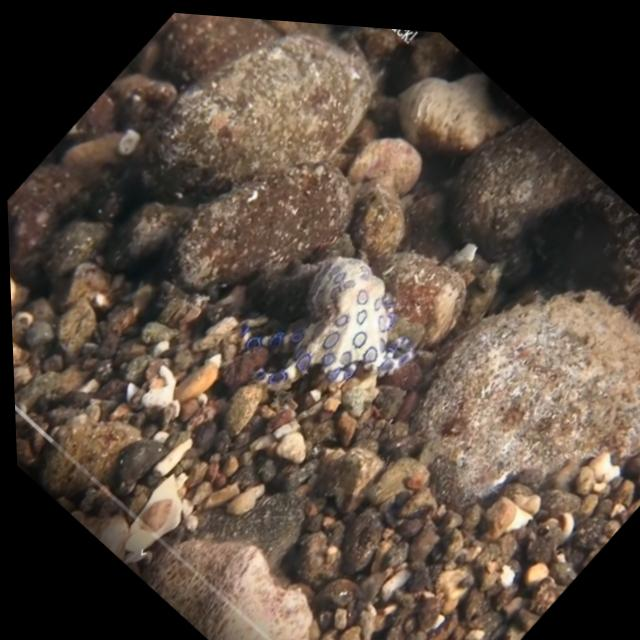blue_ringed_octopus: (209, 212, 441, 454)
